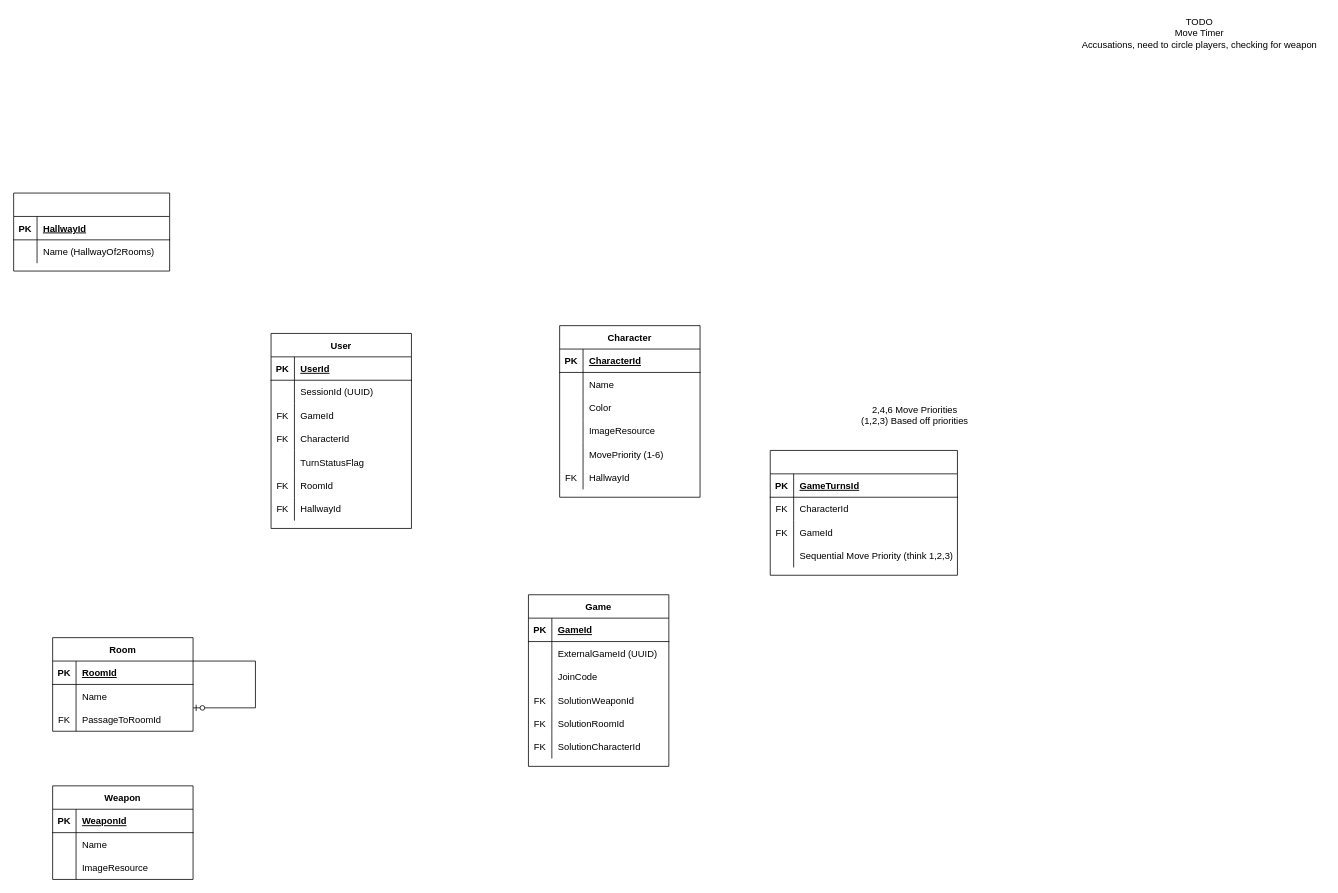
Image size: 1338x893. Some labels were removed from this diagram. The box of each missing label's shape, as (x1, y1, x2, y2) in pixels:
GameCharacters: (769, 450, 957, 575)
Hallways: (13, 192, 170, 271)
